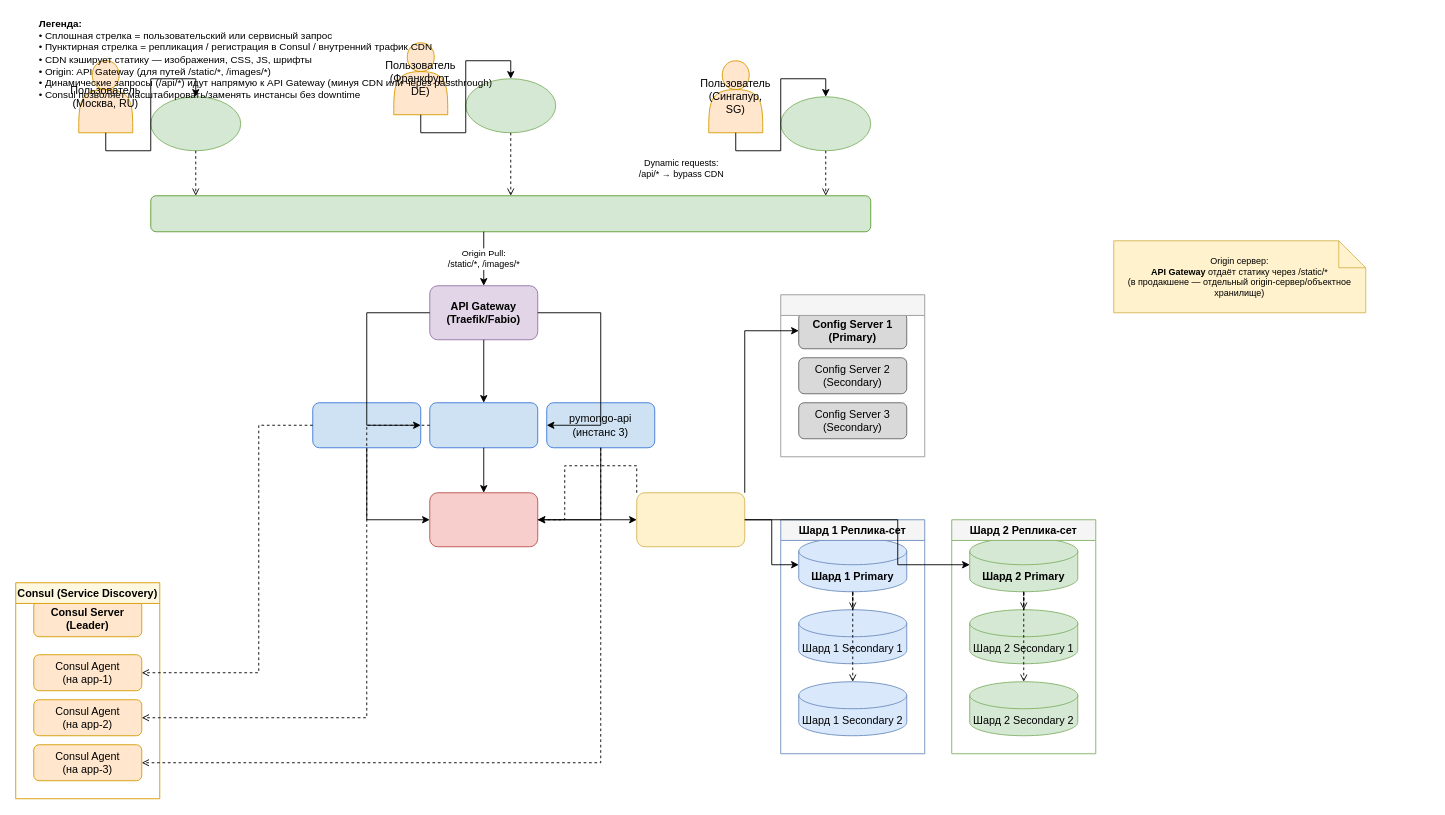
Some shapes in this 1445 by 815 pixel diagram are drawn without their labels. Each missing label, with the centre of its shape:
"CDN POP • Москва" belongs at (195,123).
"CDN POP • Сингапур" belongs at (825,123).
"CDN POP • Франкфурт" belongs at (510,105).
"CDN Service (CloudFront / Cloudflare)" belongs at (510,213).
"mongos (роутер запросов)" belongs at (690,519).
"pymongo-api (инстанс 1)" belongs at (366,425).
"pymongo-api (инстанс 2)" belongs at (483,425).
"Redis (Кеш)" belongs at (483,519).
"Конфиг-реплика-сет" belongs at (852,375).
